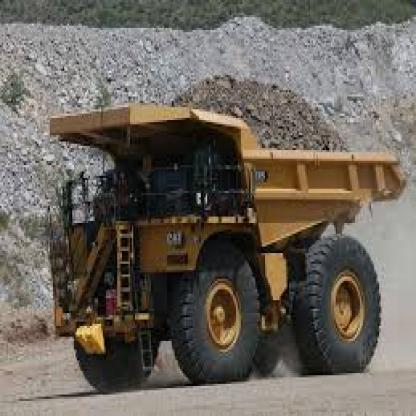dump_truck: (30, 64, 384, 390)
